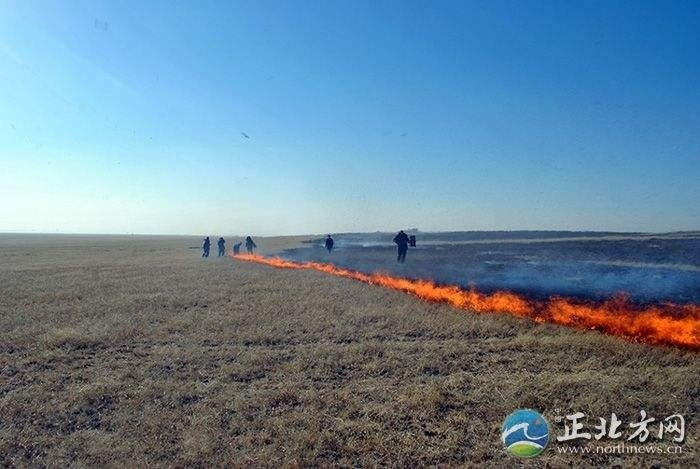fire: (233, 241, 700, 339)
